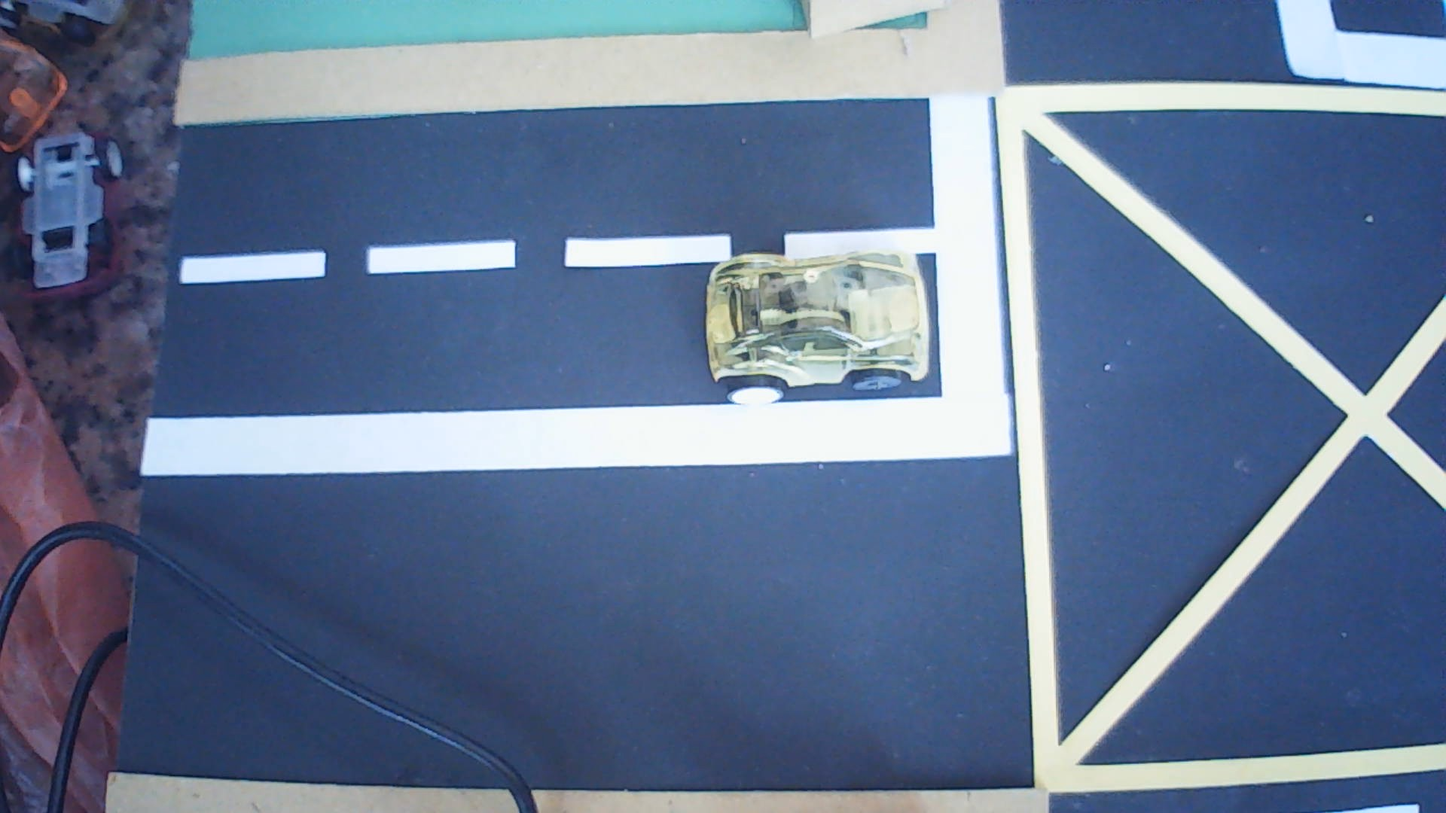Mobil kuning: (705, 251, 930, 403)
